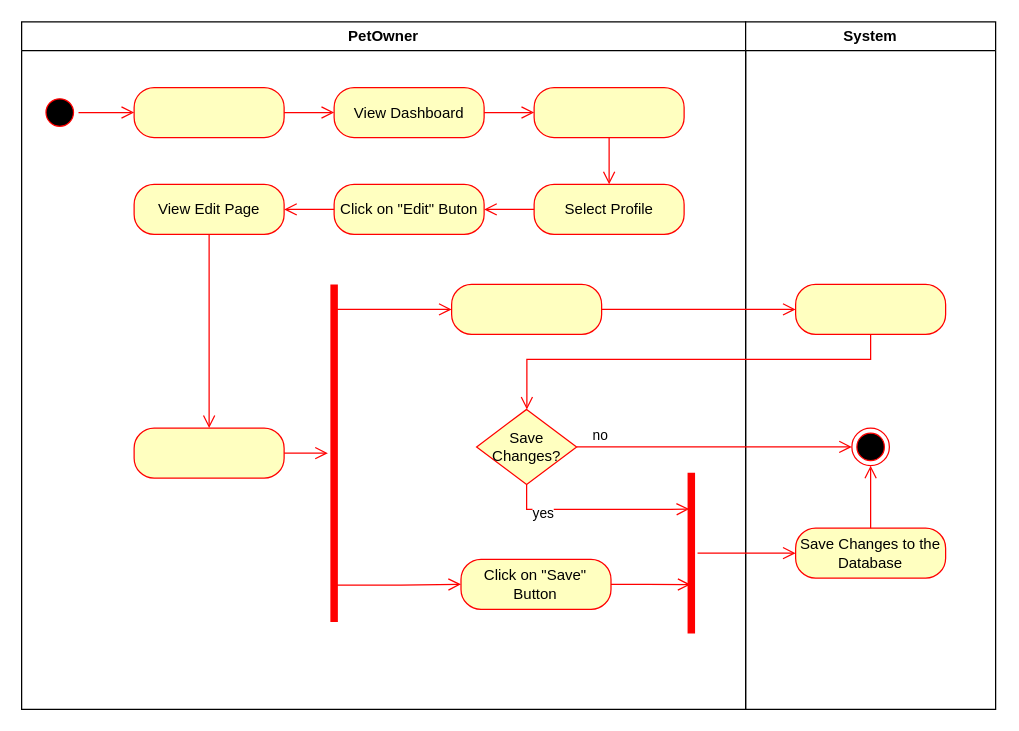
This 1019x731 diagram has some shape labels left out. Each missing label, with the box of its shape:
Ask to Save changes: (794, 283, 946, 334)
Click on Menu: (533, 86, 684, 138)
Edit Profile: (133, 427, 284, 478)
Exit page: (450, 283, 602, 334)
Login: (133, 86, 284, 138)
